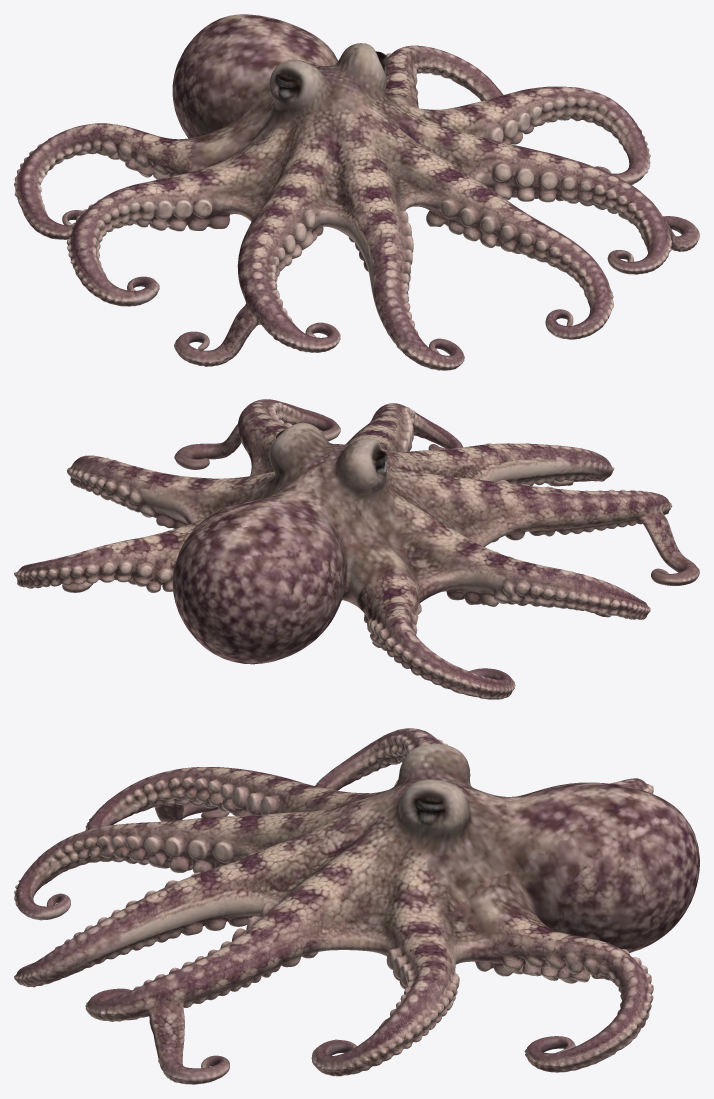
Rendered from octopus.glb.
The picture shows the model from 3 angles, top to bottom: view 1: azimuth 30°, elevation 25°; view 2: azimuth 150°, elevation 25°; view 3: azimuth 270°, elevation 25°; orthographic projection. The views are drawn at different scales.
Size of the model in its own units: 1.9 by 0.5361 by 1.79.
1 material, 1 textured.
